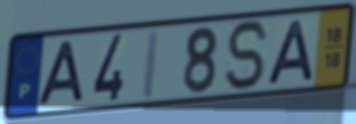4: (91, 31, 126, 105)
8: (182, 24, 221, 96)
A: (263, 18, 317, 87), (36, 38, 87, 108)
I: (138, 27, 163, 102)
S: (224, 18, 273, 94)
